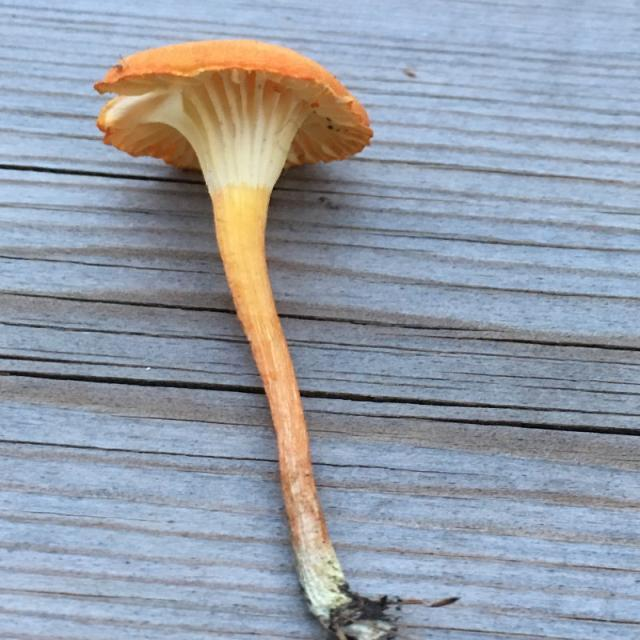Cantharellus cibarius: (97, 39, 377, 639)
